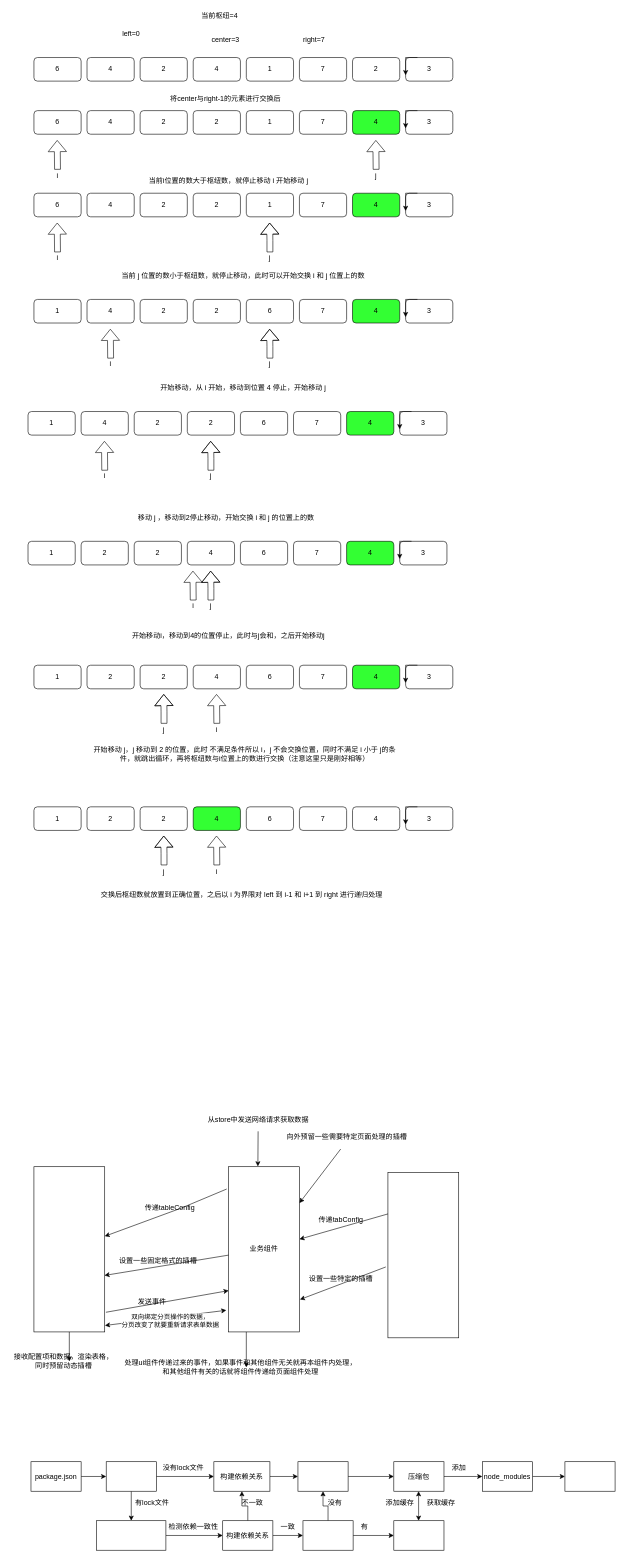
The diagram is 625 pixels wide and 1561 high, and some of its shapes have lost their labels. Here are the shapes that lost their labels. From the top down, the centre of each, then its label:
[69,1249]: ui组件
[423,1255]: 页面组件
[131,1476]: npm install
[322,1476]: registry仓库
[589,1476]: 完成安装
[131,1535]: package-lock.json
[327,1535]: 查找缓存
[418,1535]: 缓存文件
